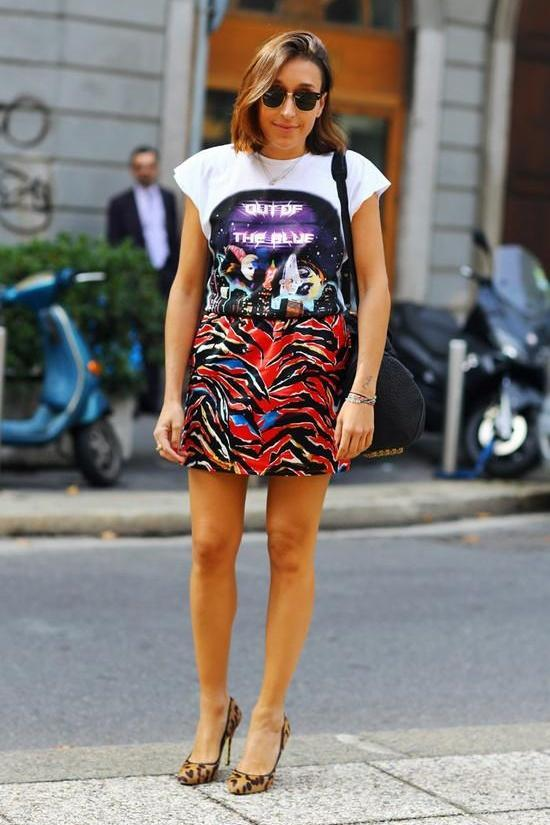Tshirt: (169, 138, 393, 318)
skirt: (176, 308, 350, 474)
